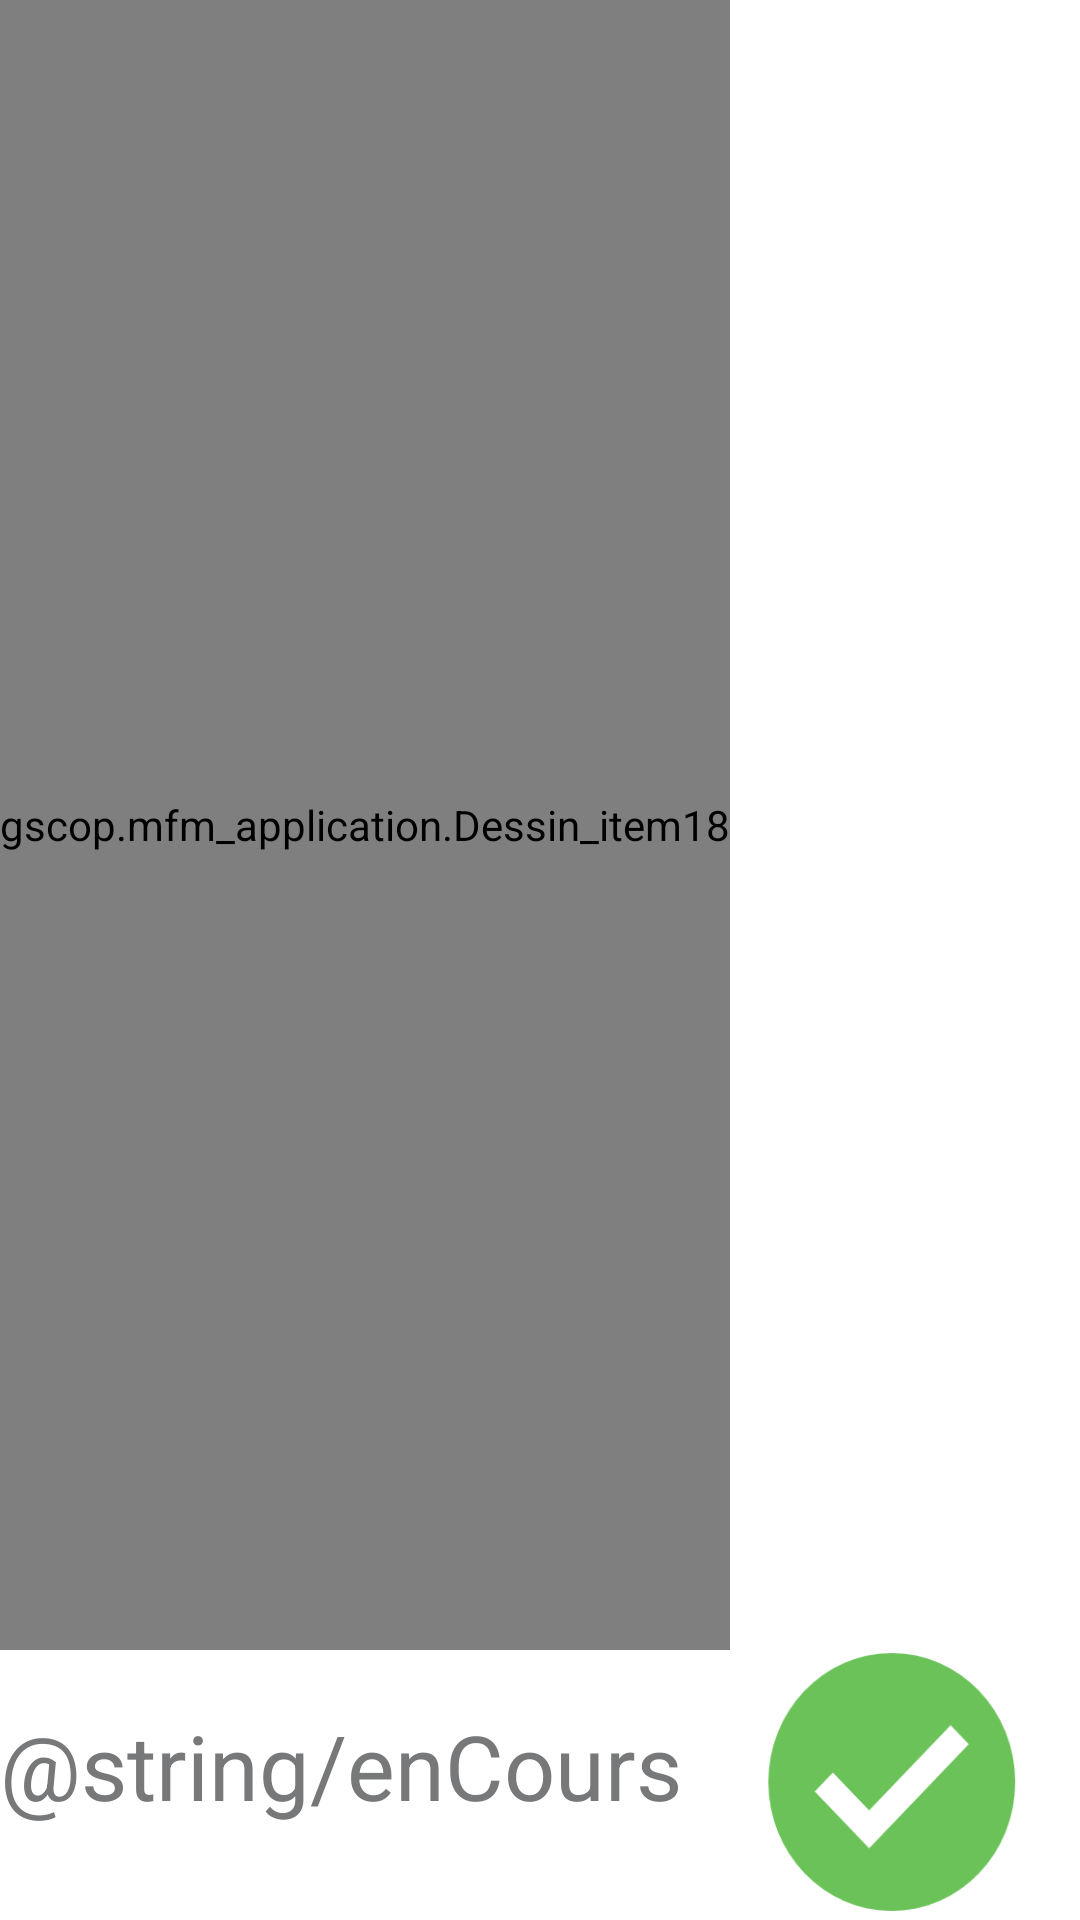

Point at icon controls on the screen. Image size 1080px x 1920px, points as [x,y].
check: [892,1782]
